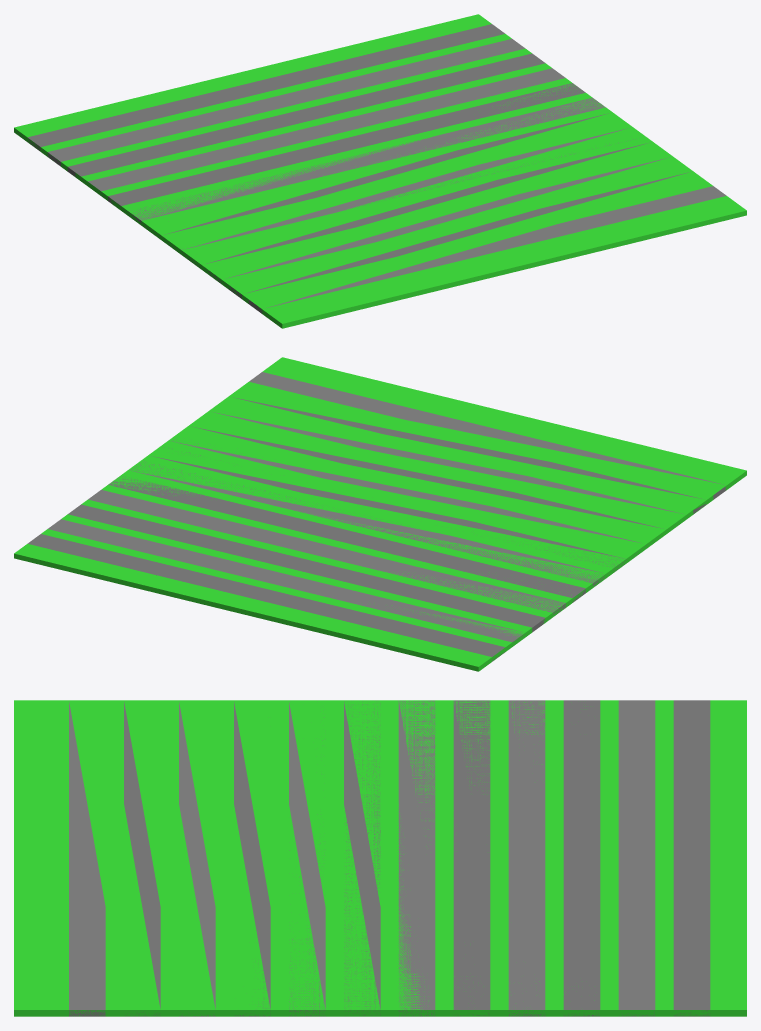
The model's file is Ground.fbx.
3 views of the same model, one above another, from view 1: azimuth 30°, elevation 25°; view 2: azimuth 150°, elevation 25°; view 3: azimuth 270°, elevation 25° (orthographic). The views are drawn at different scales.
Parts seen in each view (by area): view 1: Cube, Road.010, Road.011, Road.009, Road.007, Road.008, Road.006, Road, Road.004, Road.001, Road.002, Road.003 (+1 smaller); view 2: Cube, Road.009, Road.008, Road.011, Road.010, Road.007, Road.006, Road, Road.005, Road.001, Road.004, Road.003 (+1 smaller); view 3: Cube, Road.008, Road.011, Road.009, Road.010, Road.007, Road.006, Road, Road.005, Road.004, Road.003, Road.001 (+1 smaller).
Boxes of the visible parts, x1,y1,x2,y2 form: Cube: (14, 14, 746, 328); Road.010: (47, 39, 525, 166); Road.011: (27, 24, 504, 151); Road.009: (67, 53, 545, 176); Road.007: (108, 83, 585, 207); Road.008: (88, 68, 565, 191); Road.006: (128, 98, 605, 223); Road: (248, 186, 726, 313); Road.004: (168, 128, 636, 249); Road.001: (228, 172, 688, 298); Road.002: (208, 157, 669, 283); Road.003: (188, 142, 649, 266); Cube: (14, 357, 746, 671); Road.009: (68, 504, 545, 632); Road.008: (88, 489, 565, 615); Road.011: (27, 534, 504, 661); Road.010: (48, 519, 524, 645); Road.007: (108, 476, 585, 602); Road.006: (129, 461, 604, 586); Road: (249, 372, 725, 499); Road.005: (151, 447, 625, 572); Road.001: (233, 397, 706, 513); Road.004: (169, 439, 645, 548); Road.003: (192, 426, 663, 541); Cube: (14, 700, 746, 1016); Road.008: (508, 700, 545, 1016); Road.011: (673, 700, 710, 1016); Road.009: (563, 700, 600, 1016); Road.010: (618, 700, 655, 1016); Road.007: (453, 700, 490, 1016); Road.006: (398, 700, 435, 1016); Road: (69, 701, 105, 1016); Road.005: (344, 700, 380, 1016); Road.004: (289, 702, 325, 1016); Road.003: (234, 702, 270, 1016); Road.001: (124, 702, 160, 1016).
Bounding box in the file's own units: 20000 × 200 × 20000.
